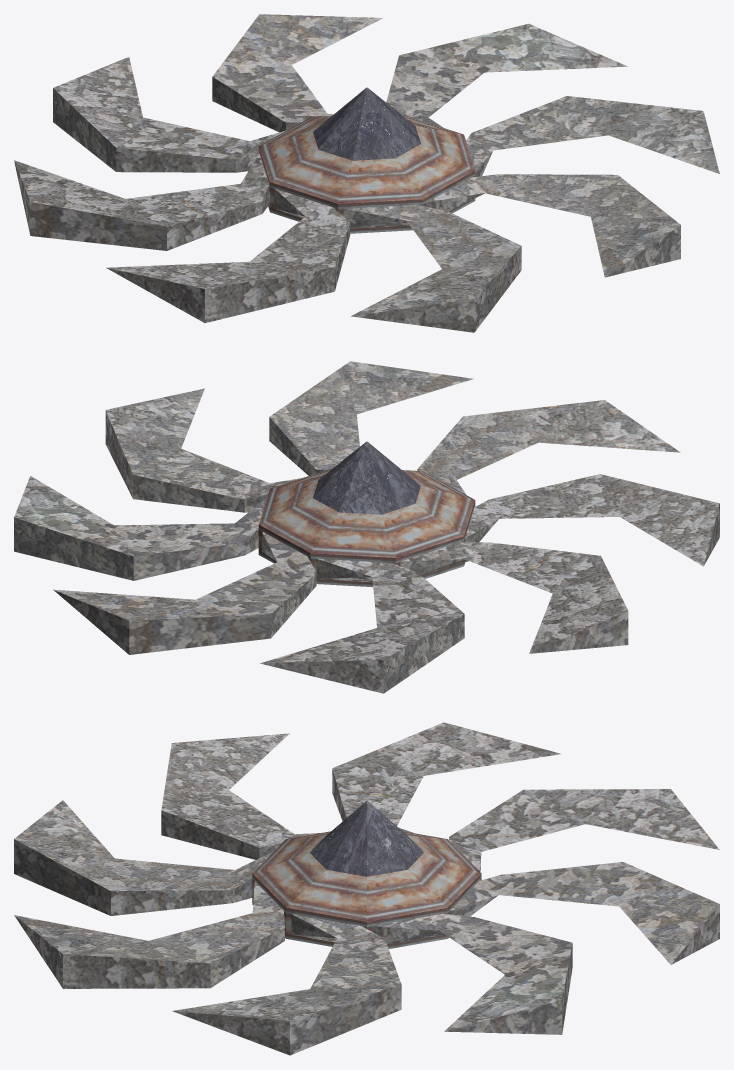
File: Dragonfly_Crusher_Fan.fbx
3 views of the same model, one above another, from view 1: azimuth 30°, elevation 25°; view 2: azimuth 150°, elevation 25°; view 3: azimuth 270°, elevation 25° (orthographic). The views are drawn at different scales.
Parts seen in each view (by area): view 1: Cylinder; view 2: Cylinder; view 3: Cylinder.
Boxes of the visible parts, x1,y1,x2,y2 form: Cylinder: [14, 14, 719, 332]; Cylinder: [14, 361, 719, 693]; Cylinder: [14, 722, 719, 1055].
Bounding box in the file's own units: 12.33 × 2.04 × 12.33.
